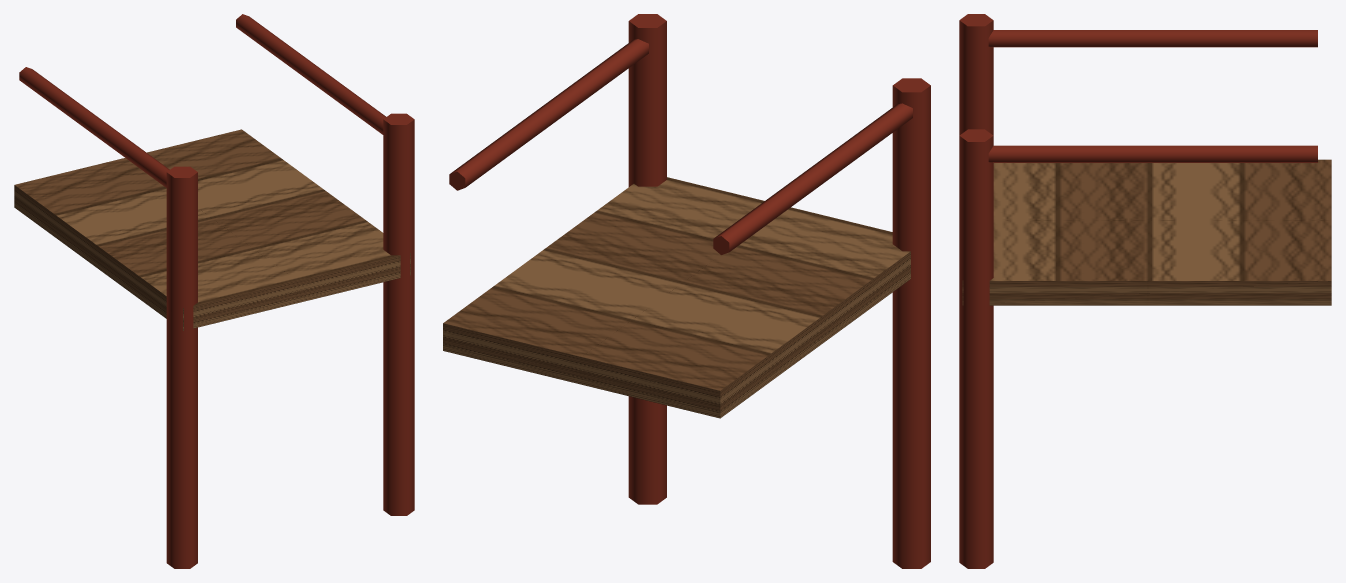
The model's file is cau_van.glb.
The picture shows the model from 3 angles, left to right: view 1: azimuth 30°, elevation 25°; view 2: azimuth 150°, elevation 25°; view 3: azimuth 270°, elevation 25°; orthographic projection. The views are drawn at different scales.
Visible parts, largest first — view 1: cau_van; view 2: cau_van; view 3: cau_van.
Boxes of the visible parts, x1,y1,x2,y2 form: cau_van: [14, 14, 414, 568]; cau_van: [443, 14, 930, 568]; cau_van: [959, 14, 1331, 568].
Bounding box in the file's own units: 0.4433 × 0.69 × 0.545.
Materials: 2 (1 with a texture image).
